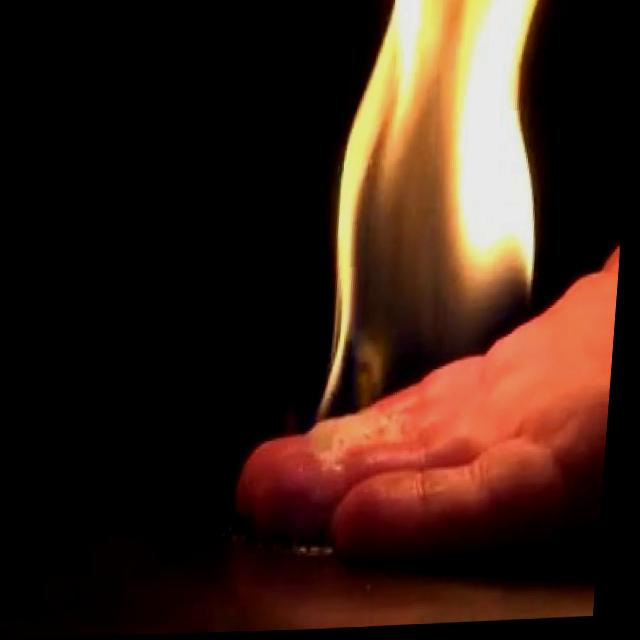Fire: (296, 0, 559, 470)
